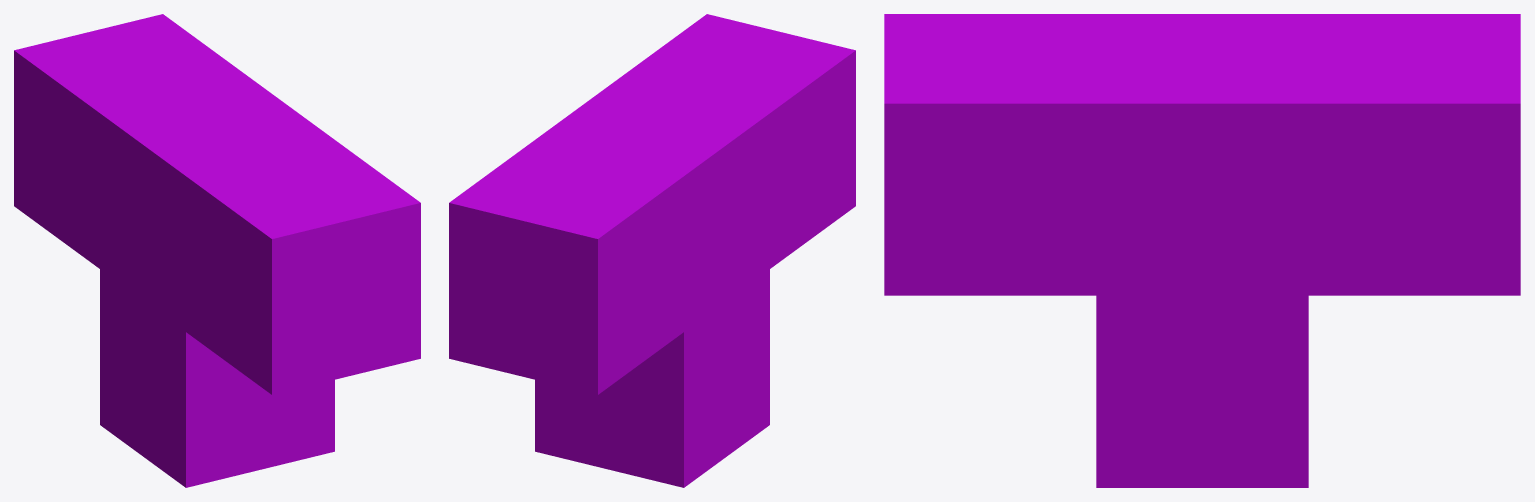
Rendered from tetris-purple.fbx.
3 renders of one model, left to right at view 1: azimuth 30°, elevation 25°; view 2: azimuth 150°, elevation 25°; view 3: azimuth 270°, elevation 25°, orthographic. The views are drawn at different scales.
Visible parts, largest first — view 1: tetris_03; view 2: tetris_03; view 3: tetris_03.
Part boxes in pixels (x1,y1,x2,y2): tetris_03: (14, 14, 420, 487); tetris_03: (449, 14, 855, 487); tetris_03: (884, 14, 1520, 487).
Size of the model in its own units: 0.5 by 1 by 1.5.
